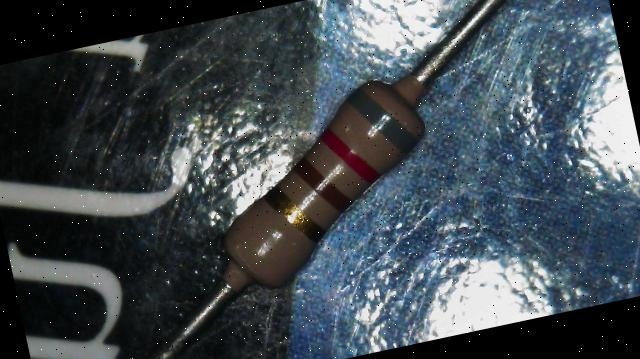brown: (292, 148, 355, 220)
gold: (264, 179, 328, 250)
grey: (343, 78, 421, 165)
red: (319, 120, 382, 192)
resistor: (198, 36, 467, 314)
